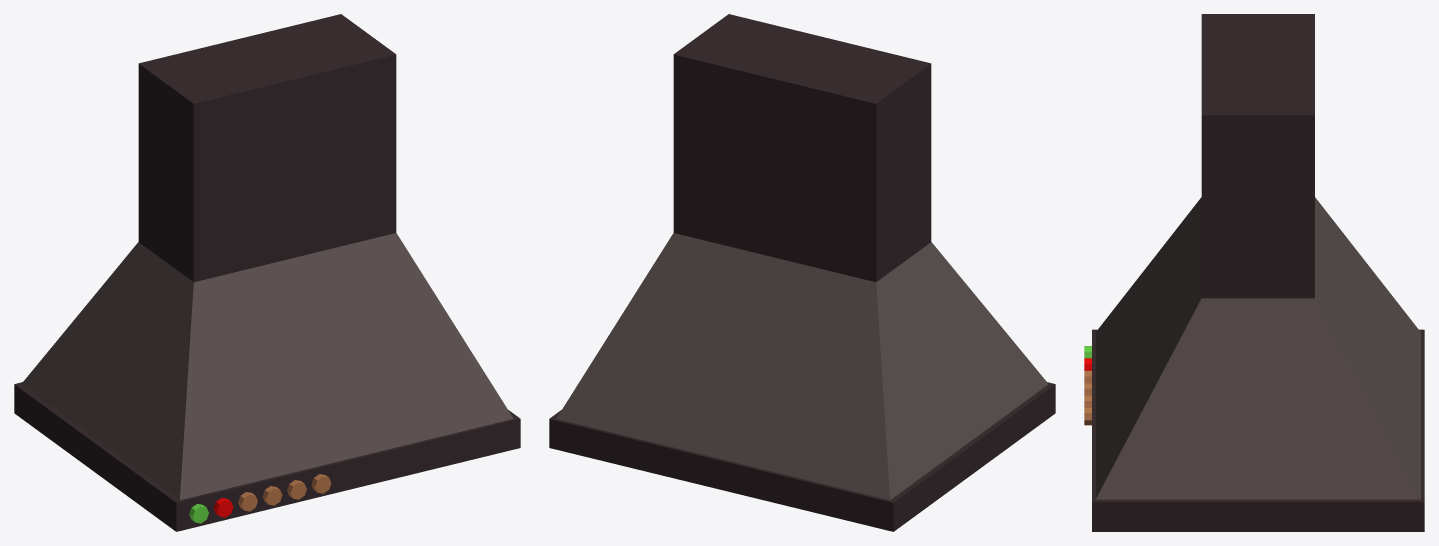
The model's file is Prop_KitchenFan.fbx.
3 views of the same model, side by side, from view 1: azimuth 30°, elevation 25°; view 2: azimuth 150°, elevation 25°; view 3: azimuth 270°, elevation 25° (orthographic). The views are drawn at different scales.
Parts seen in each view (by area): view 1: Prop_KitchenFan; view 2: Prop_KitchenFan; view 3: Prop_KitchenFan.
Part boxes in pixels (box(x1,y1,x2,y2)): Prop_KitchenFan: box(14, 14, 520, 531); Prop_KitchenFan: box(549, 14, 1055, 531); Prop_KitchenFan: box(1084, 14, 1424, 531).
Bounding box in the file's own units: 96.94 × 99.98 × 80.89.
